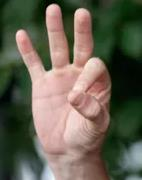left: (11, 3, 114, 153)
